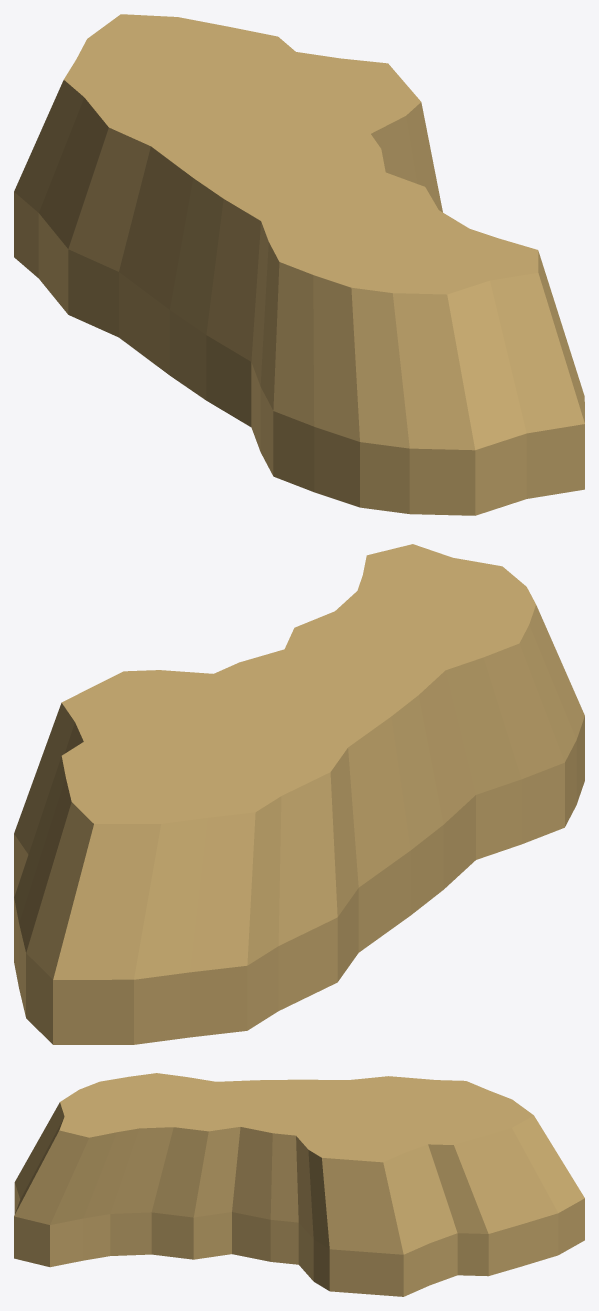
Rendered from RedObstacle1.fbx.
3 renders of one model, top to bottom at view 1: azimuth 30°, elevation 25°; view 2: azimuth 150°, elevation 25°; view 3: azimuth 270°, elevation 25°, orthographic. The views are drawn at different scales.
Parts seen in each view (by area): view 1: RedObstacle1; view 2: RedObstacle1; view 3: RedObstacle1.
Boxes of the visible parts, x1,y1,x2,y2 form: RedObstacle1: (14,14,584,515); RedObstacle1: (14,544,584,1044); RedObstacle1: (14,1073,584,1296).
Bounding box in the file's own units: 2.71 × 1.47 × 6.09.
